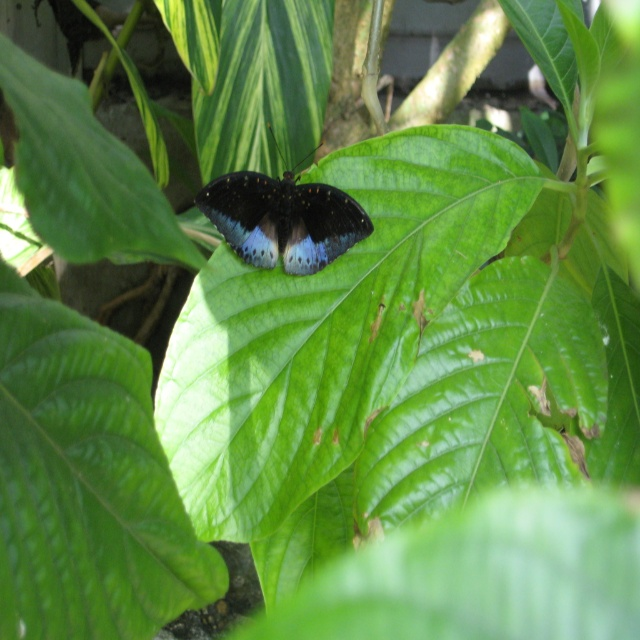Butterfly: (192, 125, 375, 275)
